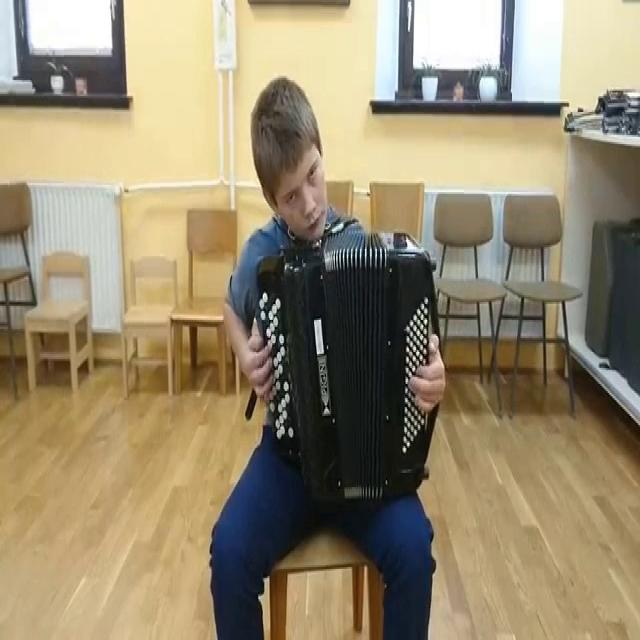Accordion: (249, 250, 439, 500)
